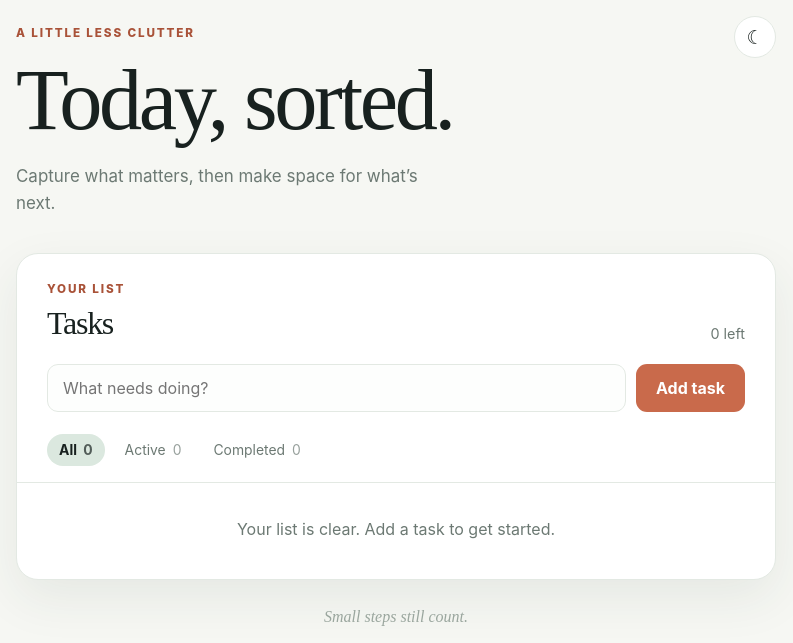
Test case: todo app › edits a task and can cancel without changing it
Type "Original title" into the field named "Add a task".
click(336, 388); type("Original title")  # box [47,364,626,412]
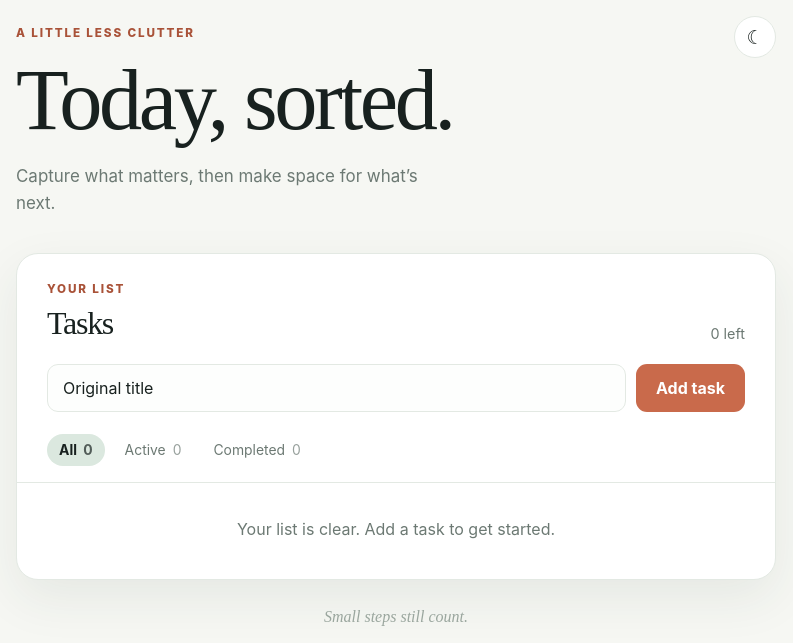
Submit the form named "Add a task", box [17,364,775,434]
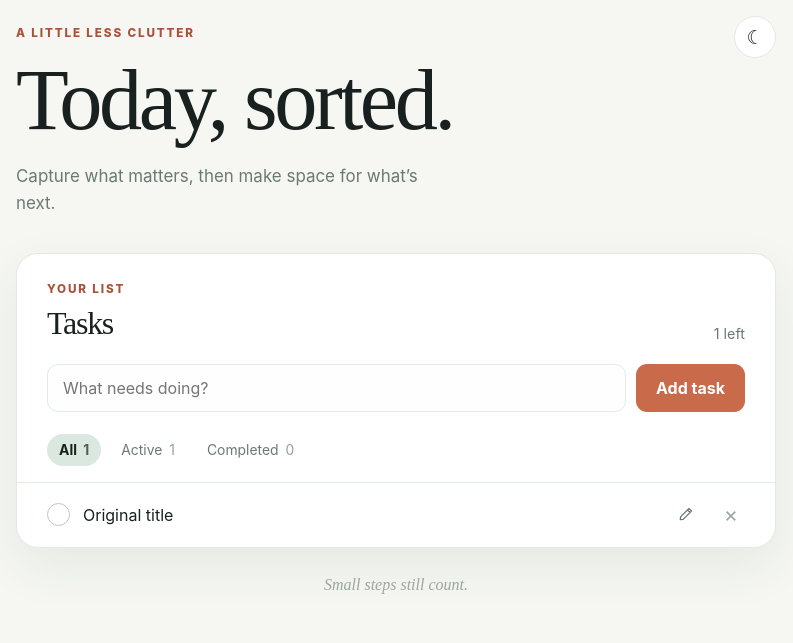
Click the button named "Edit Original title".
click(686, 515)  # box [668,497,704,533]
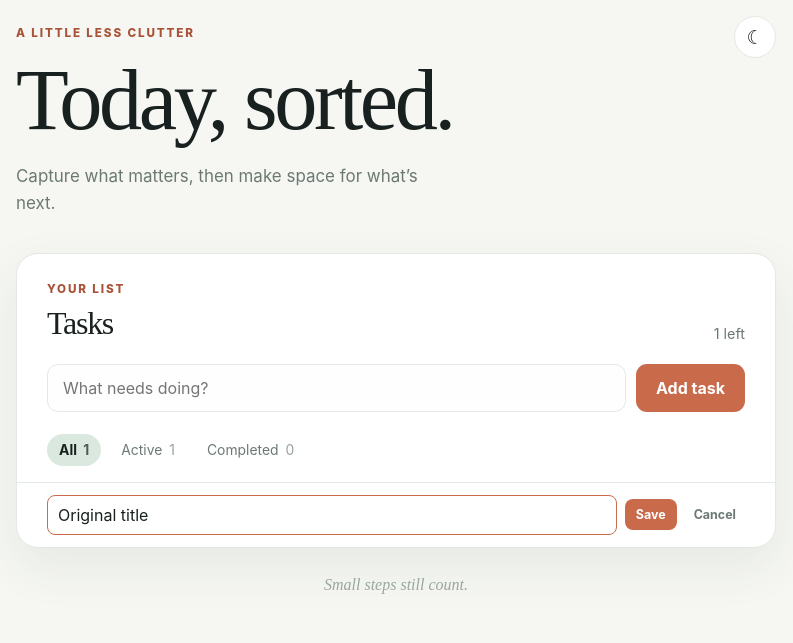
Replace the text in the field named "Edit Original title" with "Updated title" at {"x": 332, "y": 515}, box [47,495,617,535]
Click the button "Save".
click(651, 515)  # box [625,499,677,530]
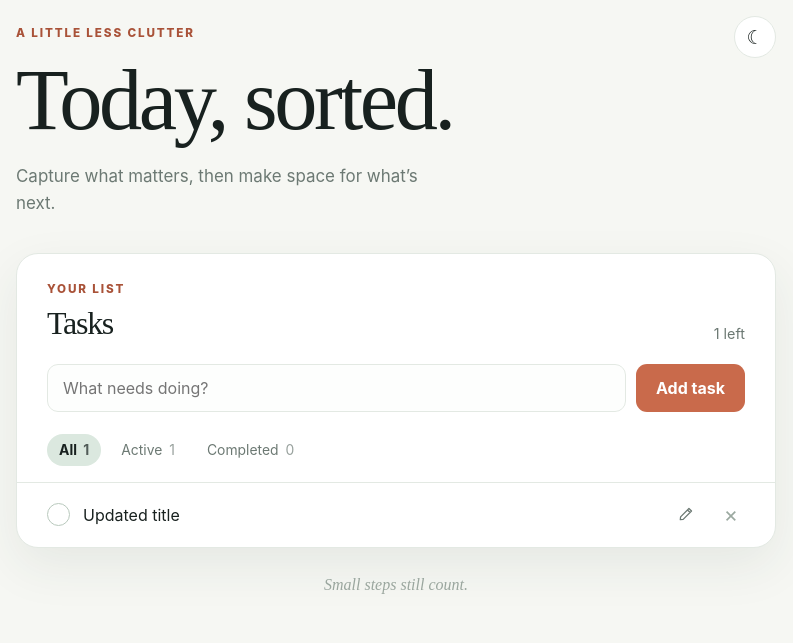
Expected: the text "Original title" is not shown
Expected: the text "Updated title" is shown, [83,505,180,525]
Click the button named "Edit Updated title".
click(686, 515)  # box [668,497,704,533]
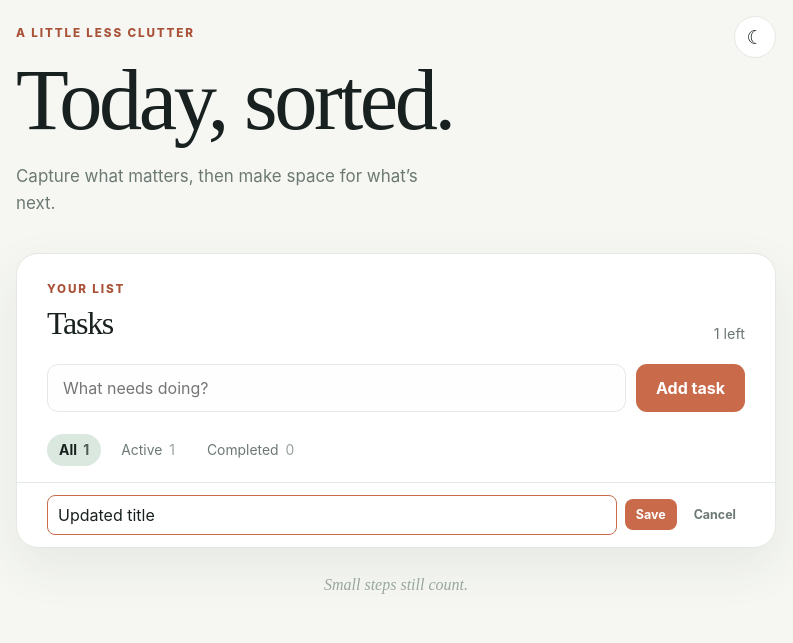
Replace the text in the field named "Edit Updated title" with "Discarded title" at {"x": 332, "y": 515}, box [47,495,617,535]
Click the button "Cancel".
click(715, 515)  # box [685,500,745,529]
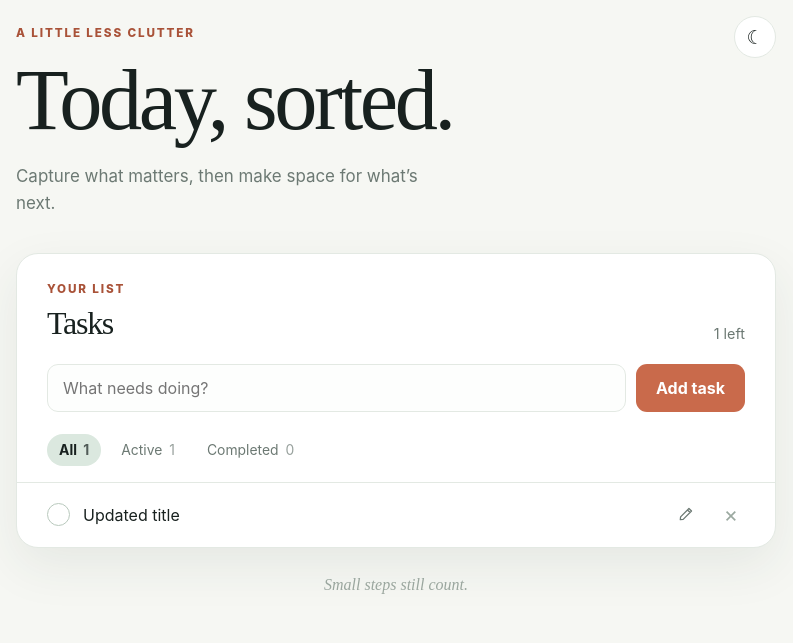
Expected: the text "Updated title" is shown, [83,505,180,525]
